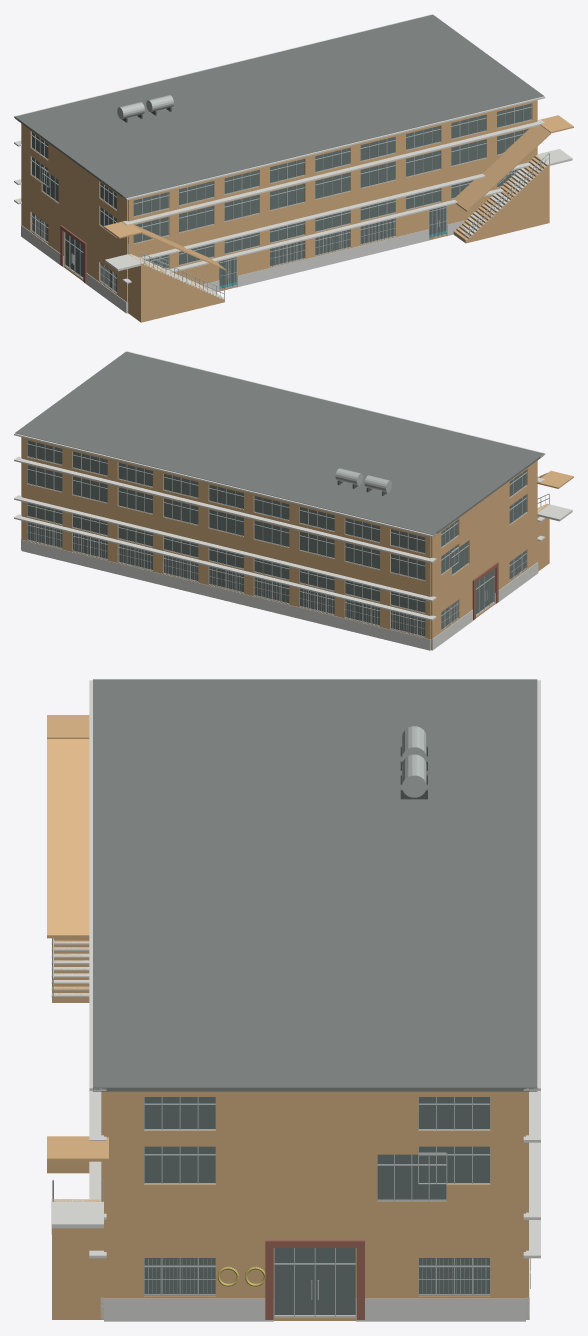
The model's file is canteen.glb.
The picture shows the model from 3 angles, top to bottom: view 1: azimuth 30°, elevation 25°; view 2: azimuth 150°, elevation 25°; view 3: azimuth 270°, elevation 25°; orthographic projection. The views are drawn at different scales.
Parts seen in each view (by area): view 1: canteen; view 2: canteen; view 3: canteen.
Part boxes in pixels (<box>): canteen: <box>14,14,573,322</box>; canteen: <box>14,351,573,650</box>; canteen: <box>47,679,540,1321</box>.
Bounding box in the file's own units: 42.3 × 11.69 × 19.9.
